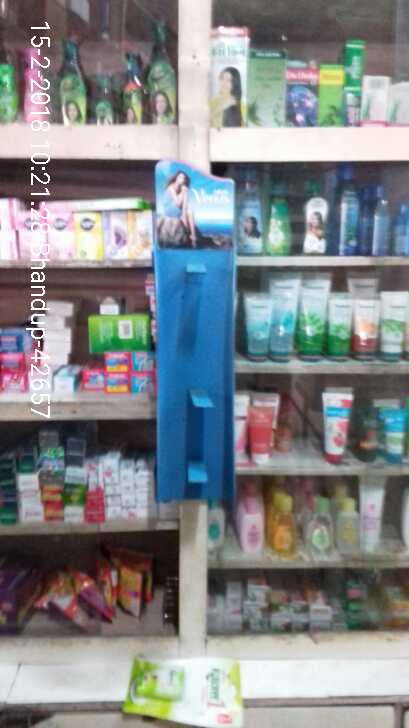reject: (162, 269, 249, 445)
